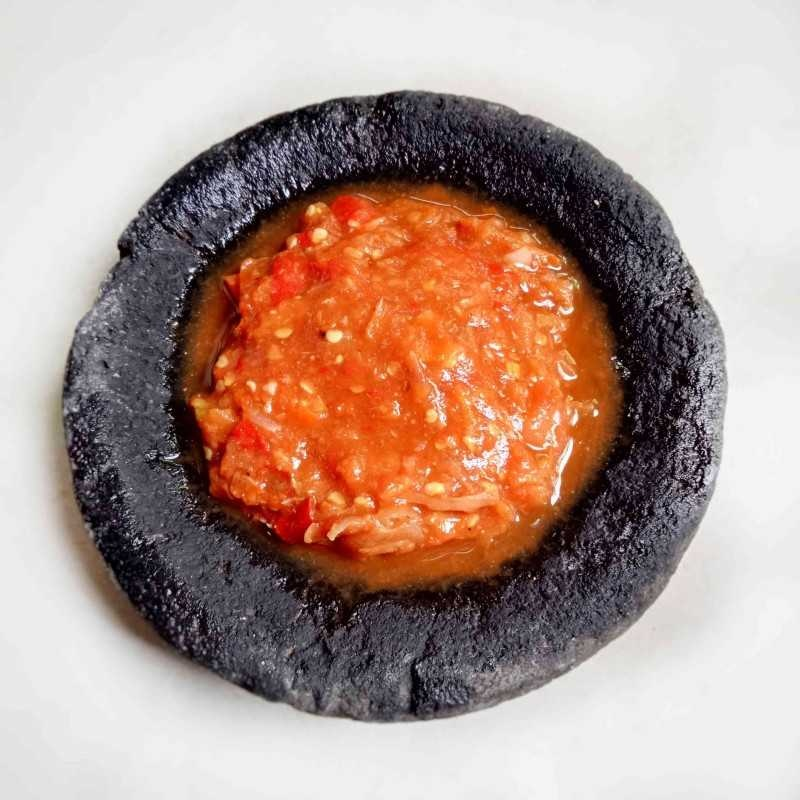sambal: (192, 184, 581, 561)
